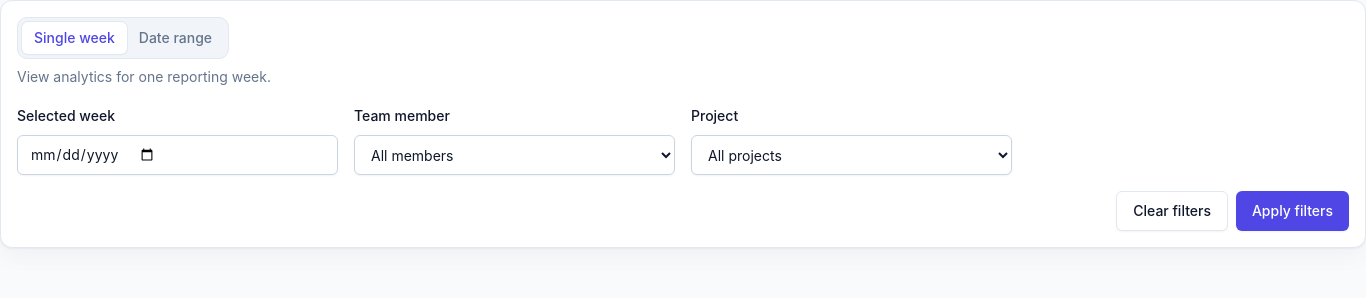
Scenario: dashboard components › rejects an invalid date range before applying filters
Click the button "Date range". click: (175,38)
box: [127,22,224,54]
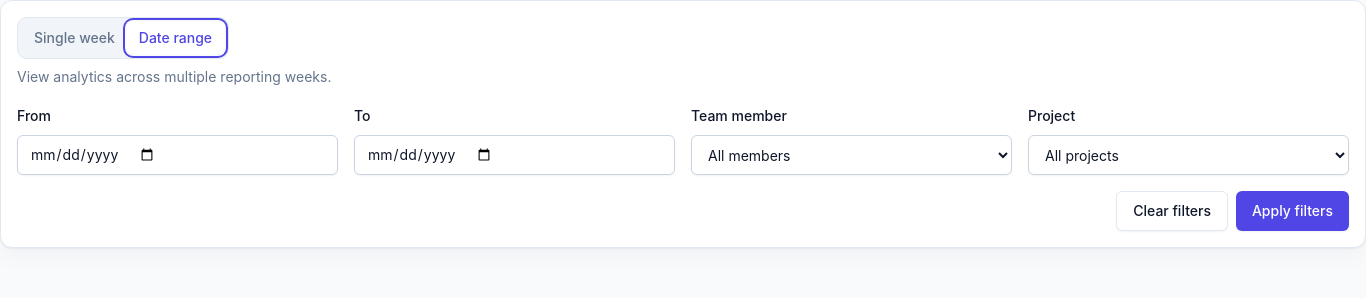
Type "2026-09-30" into the date field labelled "From". click: (178,155)
box: [17,135,338,175]
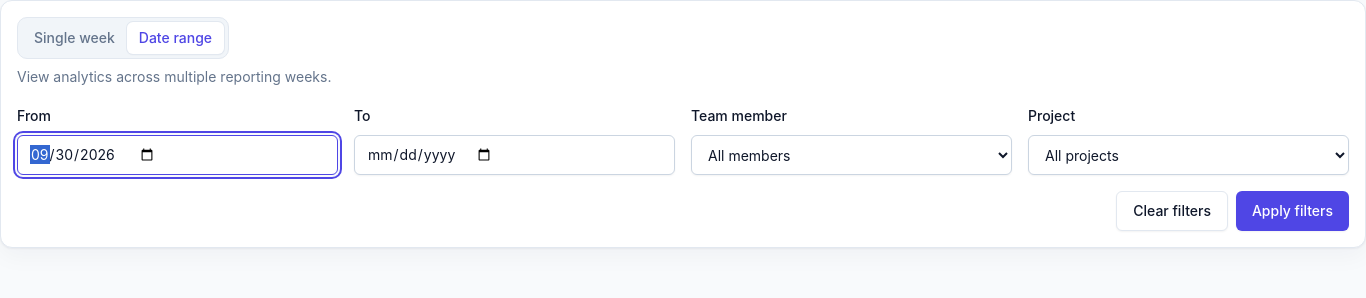
Type "2026-09-01" into the date field labelled "To". click: (514,155)
box: [354,135,675,175]
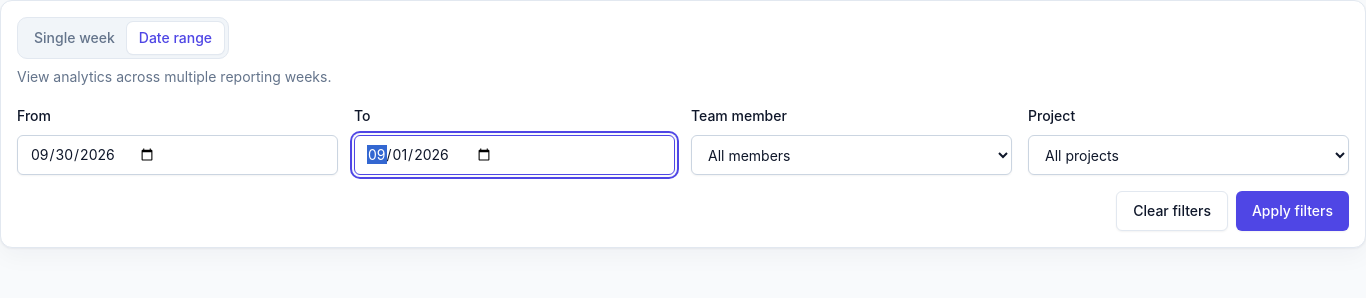
Click the button "Apply filters". click: (1292,211)
box: [1236,191,1349,231]
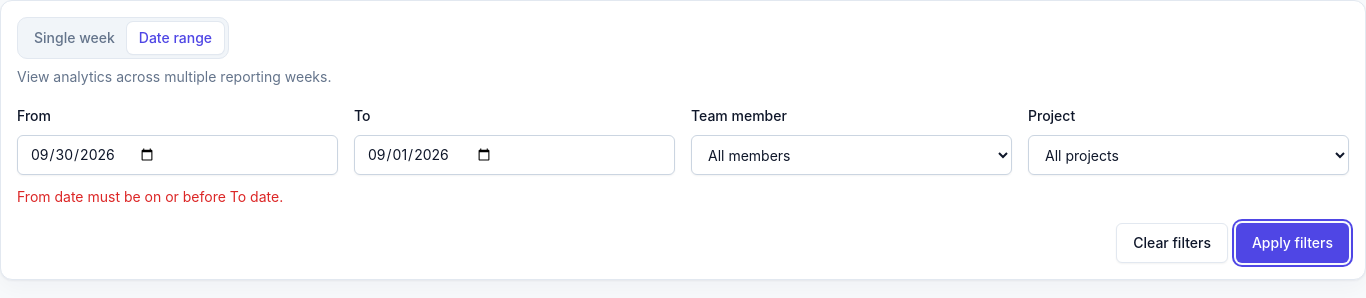
expect the text "From date must be on or before To date." is shown: met, box [17,188,283,205]
